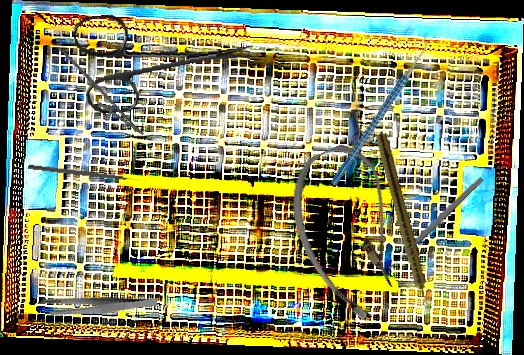Cannula: (271, 135, 431, 331)
Chopper: (292, 32, 466, 187)
Dressing Forceps: (39, 273, 158, 338)
Handpiece: (371, 132, 433, 308)
Hook Surgical: (28, 163, 145, 185)
Iris Scissors: (72, 0, 259, 116)
Needle Holder: (42, 46, 154, 143)
Surgical Spoon: (386, 175, 485, 271)
